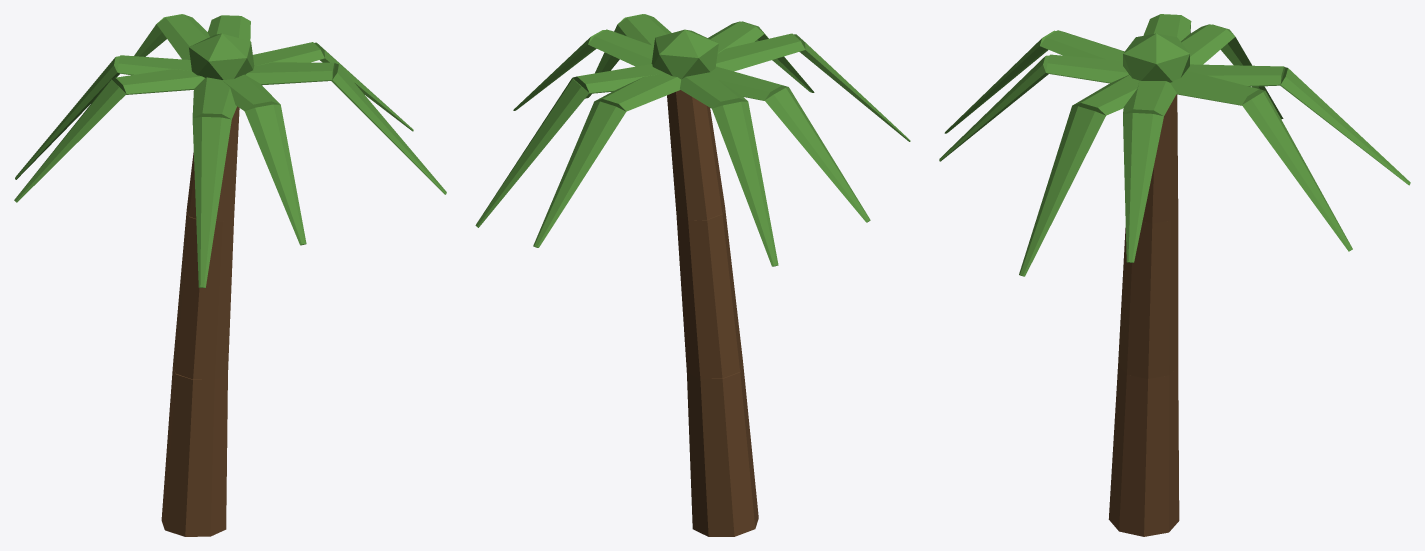
File: desert_palm_v31.glb
The picture shows the model from 3 angles, left to right: view 1: azimuth 30°, elevation 25°; view 2: azimuth 150°, elevation 25°; view 3: azimuth 270°, elevation 25°; orthographic projection. The views are drawn at different scales.
Parts seen in each view (by area): view 1: desert_palm; view 2: desert_palm; view 3: desert_palm.
Part boxes in pixels (left/top/right/bottom): desert_palm: left=14, top=14, right=446, bottom=536; desert_palm: left=475, top=14, right=910, bottom=536; desert_palm: left=939, top=14, right=1410, bottom=536.
Size of the model in its own units: 2.18 by 2.69 by 2.27.
